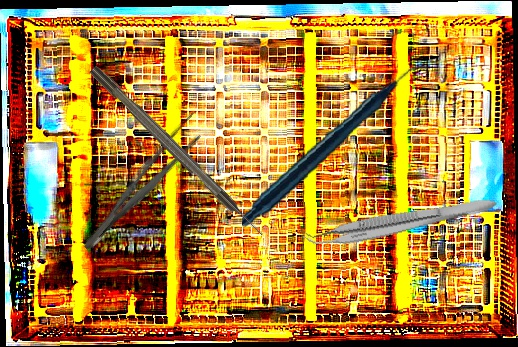Dressing Forceps: (75, 108, 211, 258)
Handpiece: (227, 63, 443, 228)
Hook Surgical: (88, 63, 267, 241)
Tissue Forceps: (298, 185, 499, 256)
